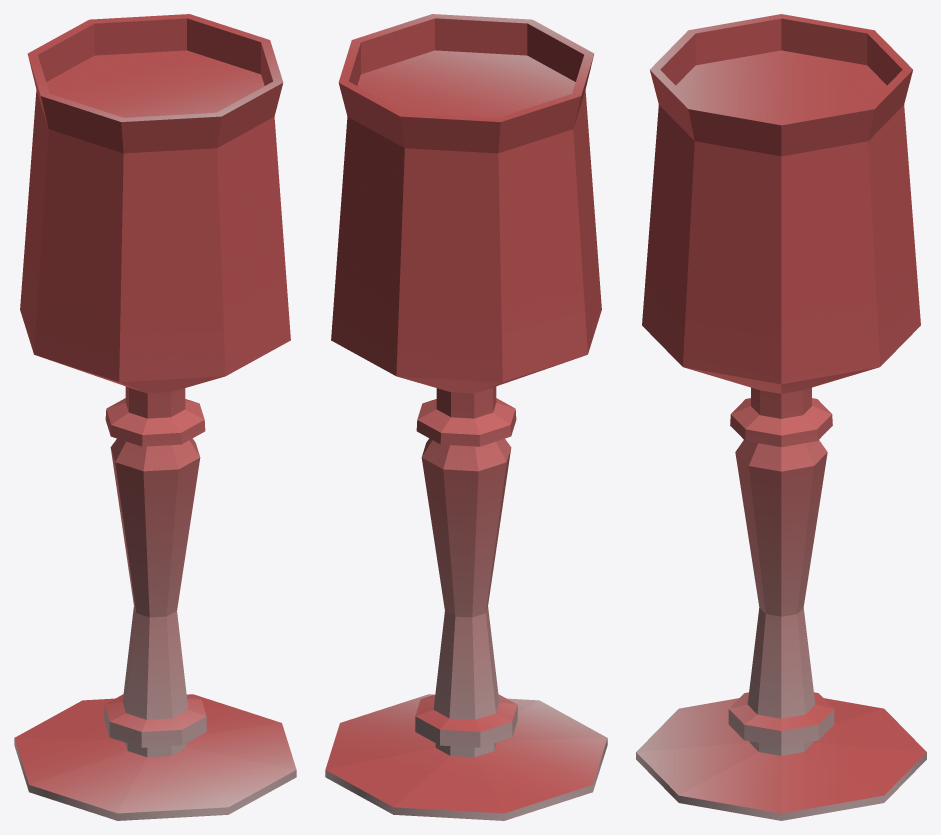
Rendered from Wine Glass Building.fbx.
3 renders of one model, left to right at view 1: azimuth 30°, elevation 25°; view 2: azimuth 150°, elevation 25°; view 3: azimuth 270°, elevation 25°, orthographic.
Parts seen in each view (by area): view 1: Wine Glass Building; view 2: Wine Glass Building; view 3: Wine Glass Building.
Part boxes in pixels (x1=…): Wine Glass Building: x1=14, y1=14, x2=296, y2=820; Wine Glass Building: x1=325, y1=14, x2=607, y2=820; Wine Glass Building: x1=636, y1=14, x2=926, y2=820.
Bounding box in the file's own units: 13.91 × 36.42 × 13.91.
